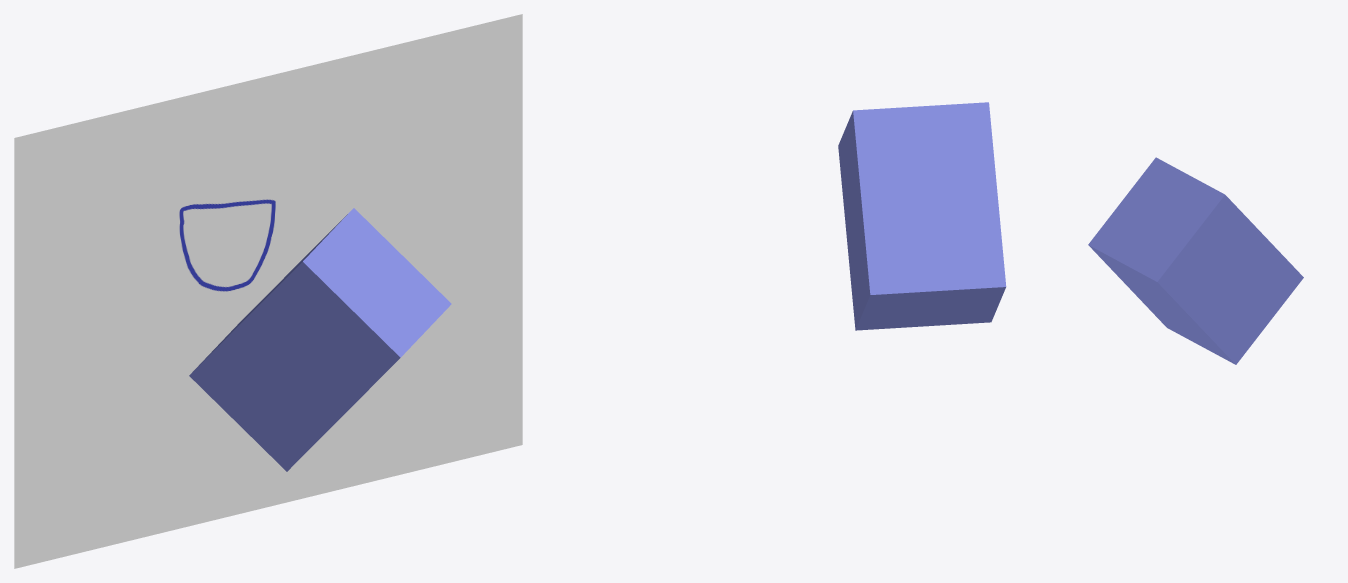
Rendered from Bob.glb.
The picture shows the model from 3 angles, left to right: view 1: azimuth 30°, elevation 25°; view 2: azimuth 150°, elevation 25°; view 3: azimuth 270°, elevation 25°; orthographic projection. The views are drawn at different scales.
Parts seen in each view (by area): view 1: mesh_id1, mesh_id27; view 2: mesh_id27; view 3: mesh_id27.
Part boxes in pixels (x1,y1,x2,y2): mesh_id1: (14, 14, 522, 568); mesh_id27: (189, 208, 451, 471); mesh_id27: (838, 102, 1006, 330); mesh_id27: (1088, 157, 1303, 364).
Size of the model in its own units: 0.696 by 0.564 by 0.3568.
2 materials, 1 textured.
